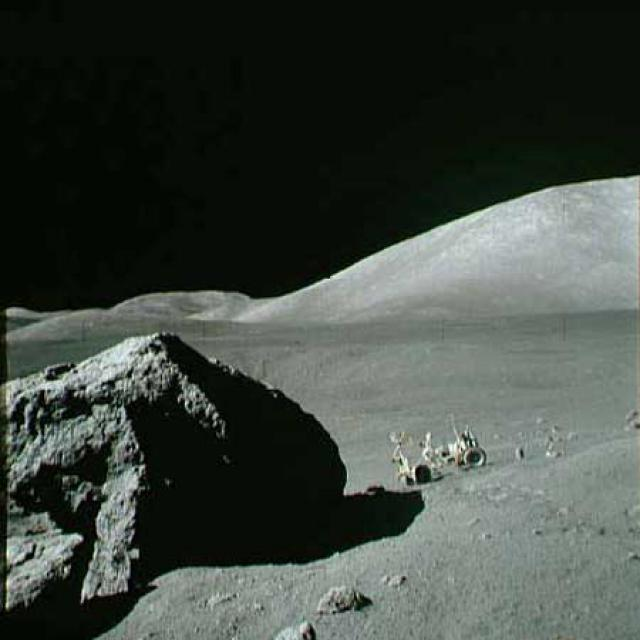artifact: (377, 419, 489, 488)
rock: (313, 580, 367, 615), (267, 618, 323, 638), (617, 402, 639, 430)
